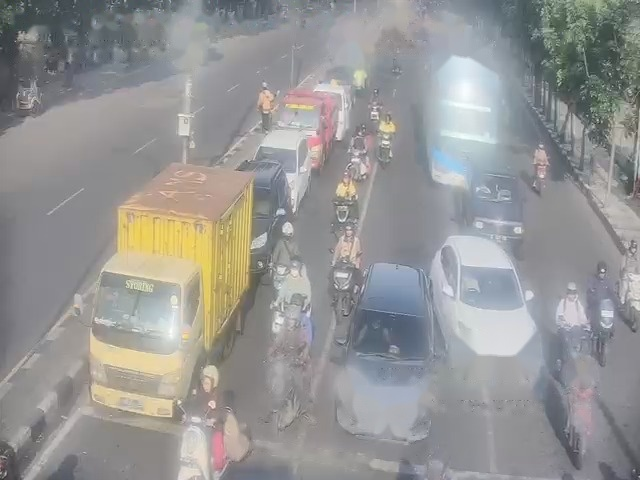Bis: (426, 56, 491, 172)
Mobil: (352, 257, 431, 433), (444, 235, 531, 357), (237, 158, 286, 256), (462, 172, 524, 234), (258, 131, 306, 192)
Motor: (167, 417, 198, 477), (592, 300, 612, 362), (332, 255, 354, 301), (335, 181, 352, 234), (573, 378, 587, 442), (267, 362, 286, 408), (562, 329, 586, 364), (345, 150, 366, 181), (626, 277, 639, 318), (378, 136, 395, 163), (273, 259, 285, 292), (532, 164, 544, 194), (270, 302, 282, 331), (369, 105, 377, 119)
Truk: (107, 164, 244, 407)
